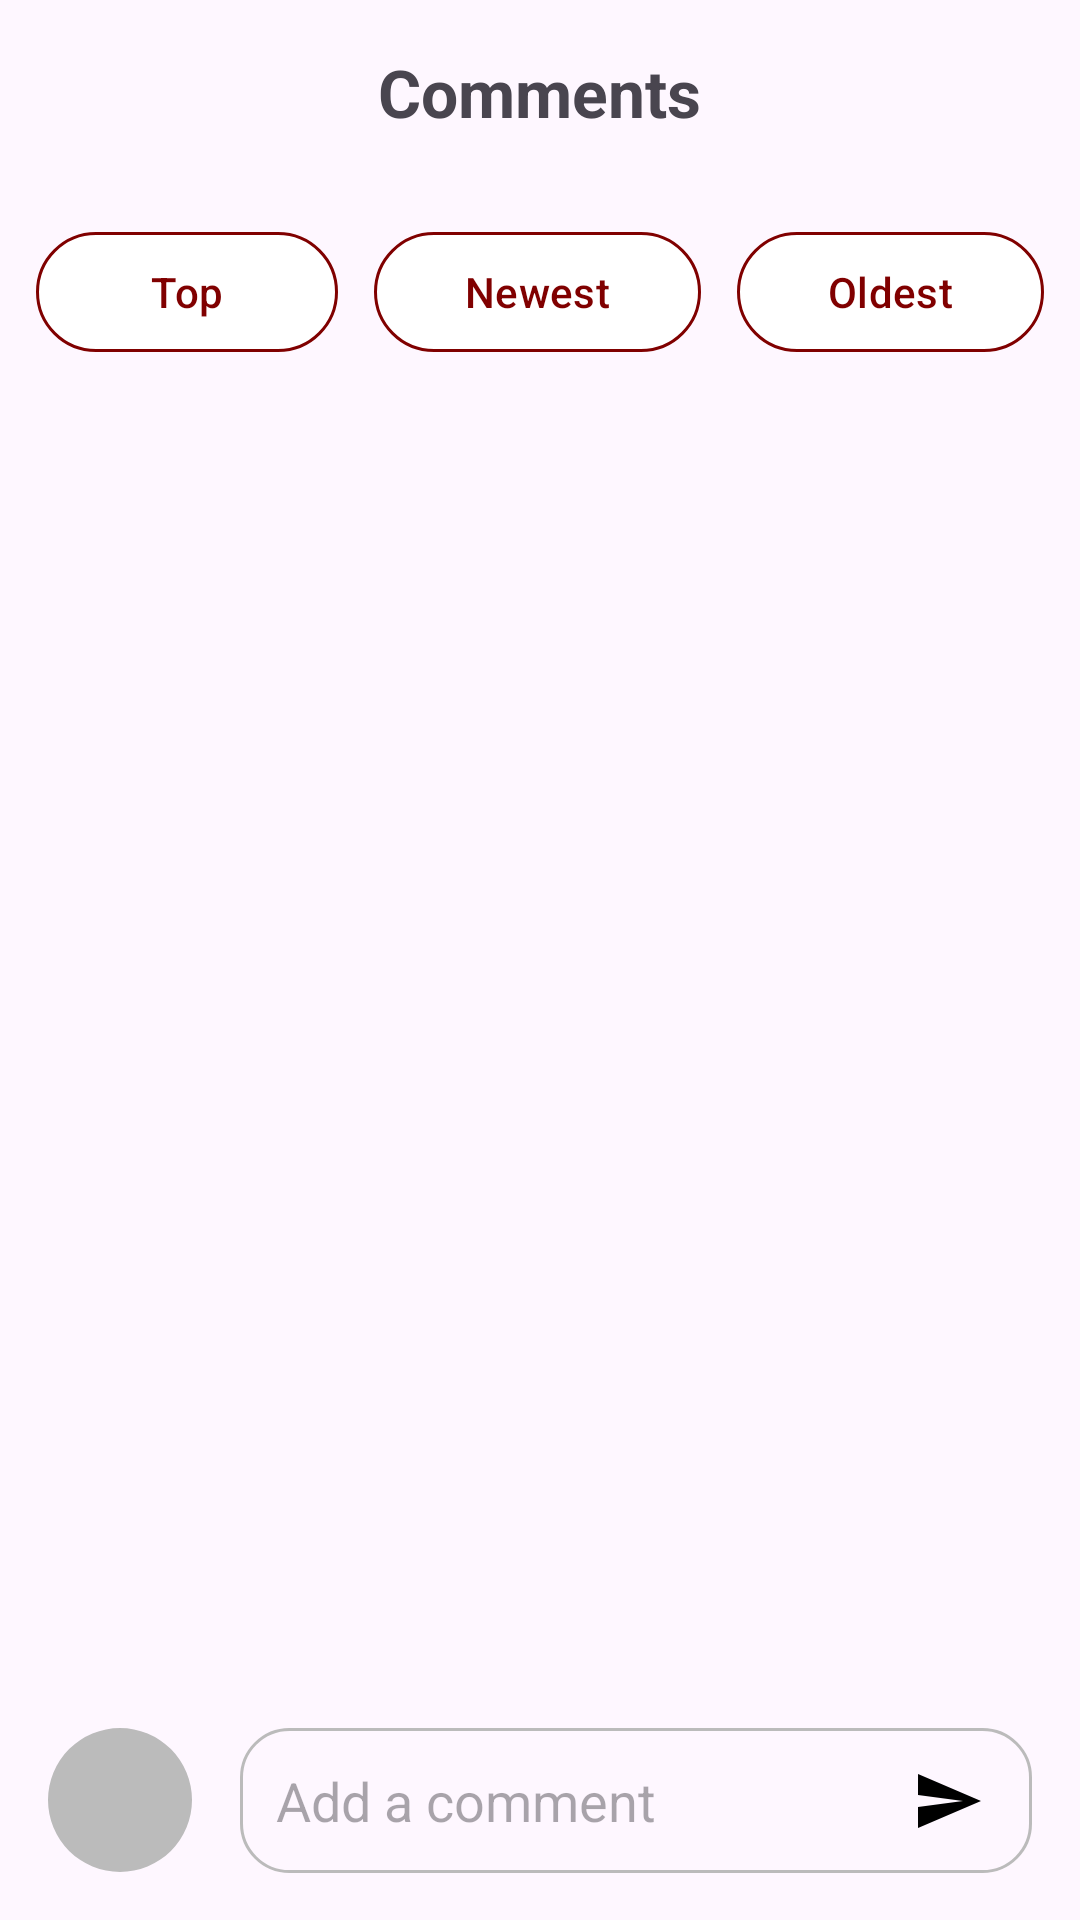

Named icons in this screenshot (1080 x 1920) and their bounding boxes, (x1, y1, x2, y2):
send: (918, 1774, 981, 1828)
